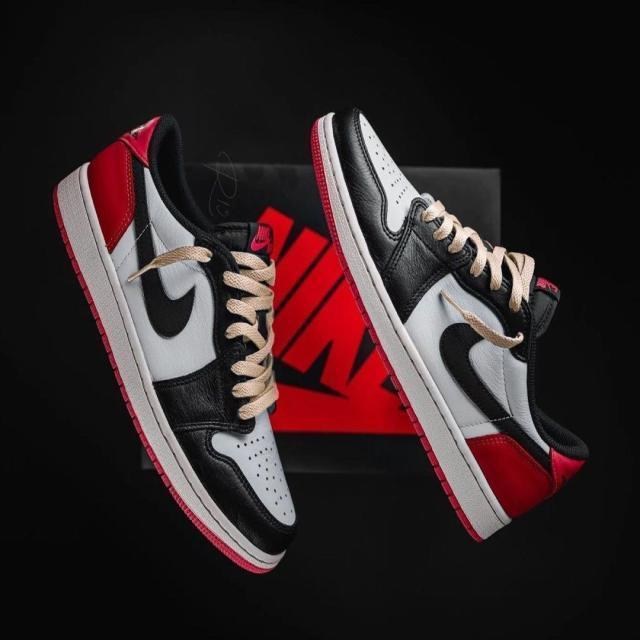nike original jordan 1: (307, 103, 588, 547), (49, 108, 300, 577)
